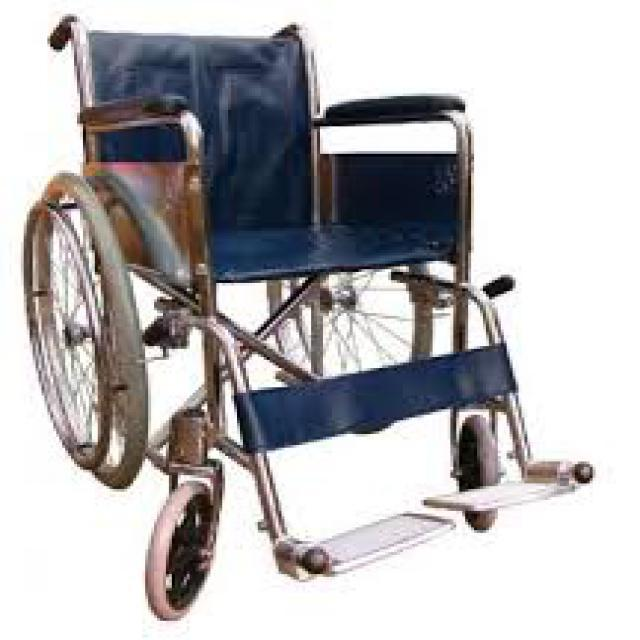wheelchair: (18, 2, 610, 618)
